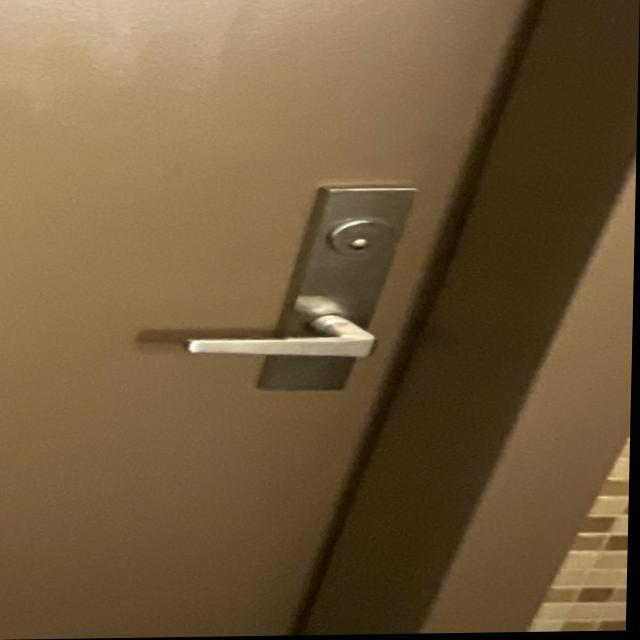door_handle: (168, 304, 414, 380)
